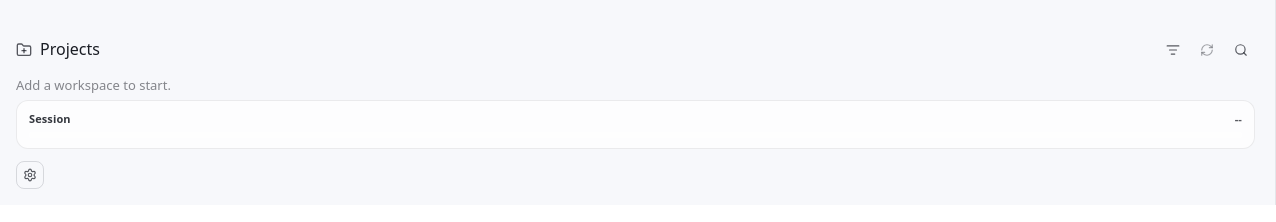
Test case: Sidebar › opens thread sort menu from the header filter button
The width and height of the screenshot is (1276, 222).
Click the button named "Sort threads".
click(1173, 50)  # box 1159,36 -> 1187,64
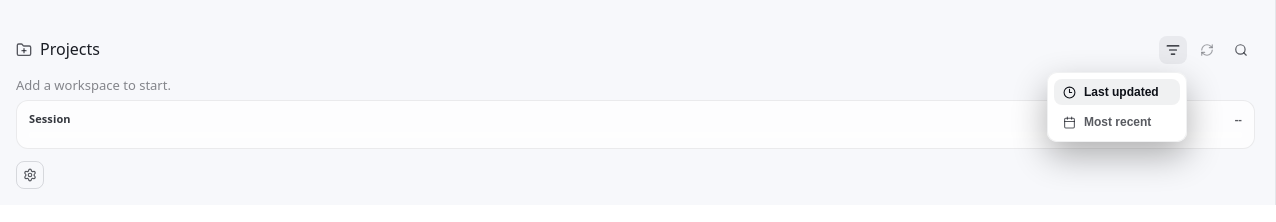
Click the menu item "Most recent".
click(1117, 122)  # box 1054,109 -> 1180,135
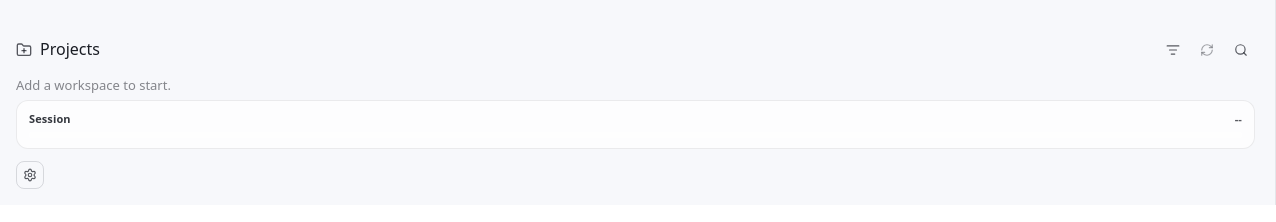
Expected: the menu is gone
